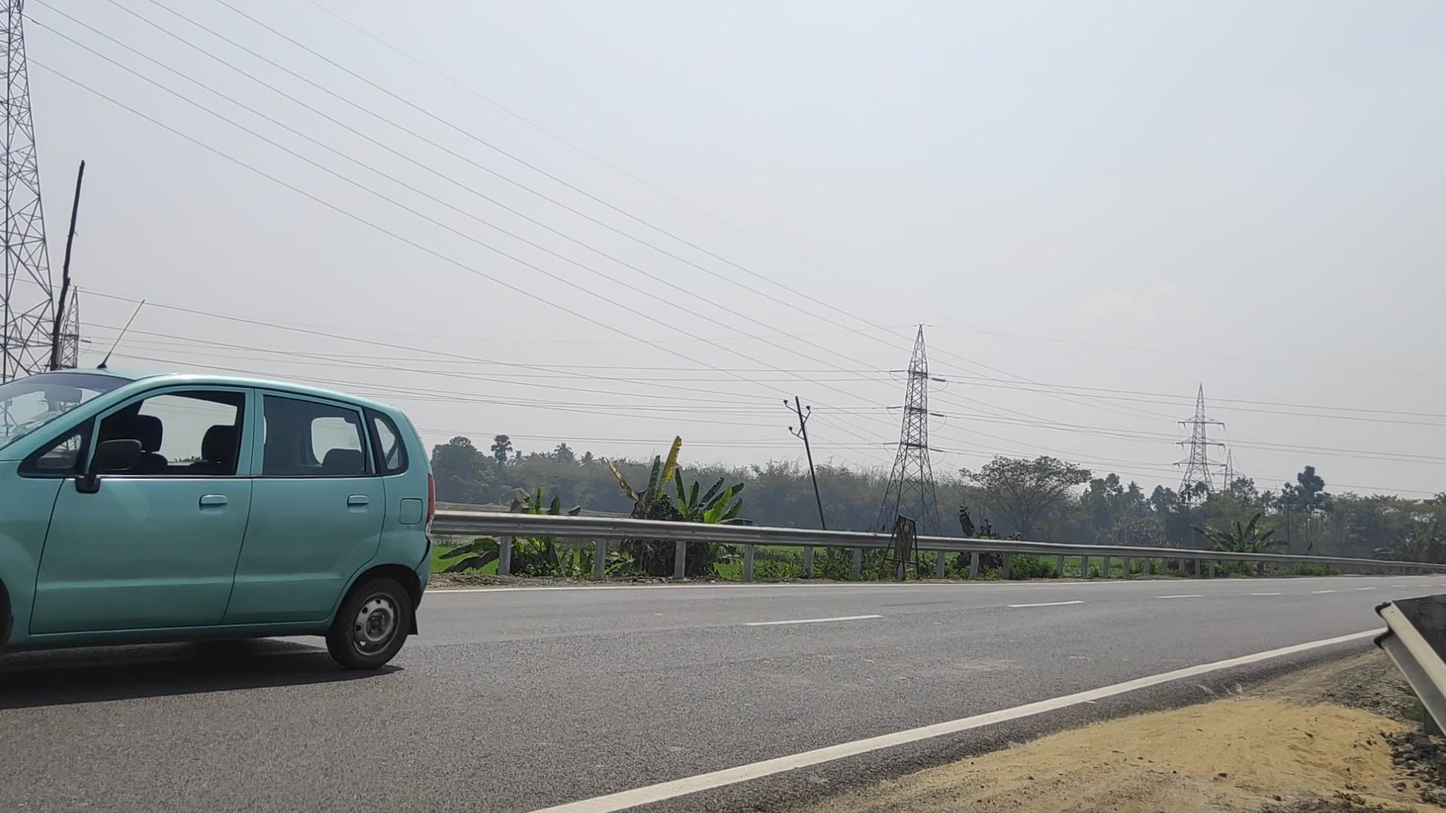car: (1, 367, 435, 674)
